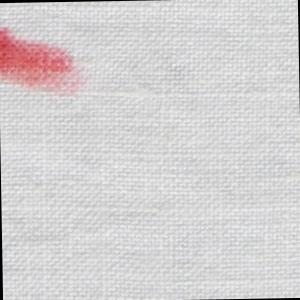Stain: (1, 26, 89, 105)
